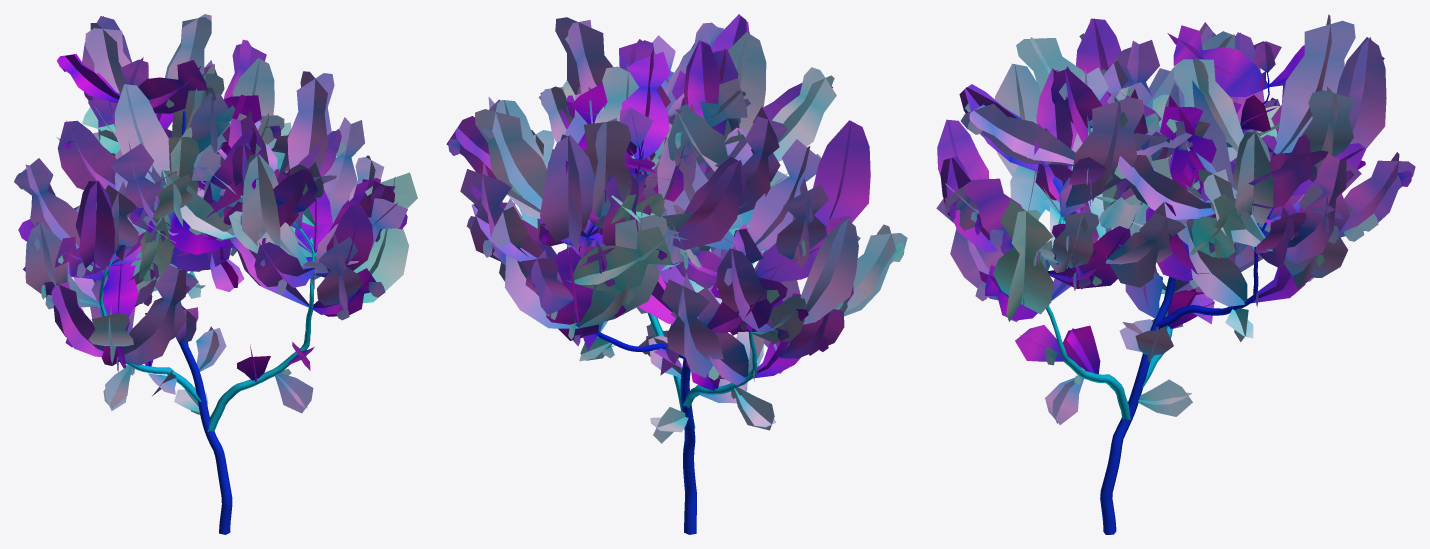
File: European_Spindle_wk1ncbxja_Mid_wk1ncbxja_VarB_LOD2.fbx
3 views of the same model, side by side, from view 1: azimuth 30°, elevation 25°; view 2: azimuth 150°, elevation 25°; view 3: azimuth 270°, elevation 25° (orthographic). The views are drawn at different scales.
Visible parts, largest first — view 1: _b5n0_VarB_LOD3; view 2: _b5n0_VarB_LOD3; view 3: _b5n0_VarB_LOD3.
Boxes of the visible parts, bbox=[...] form: _b5n0_VarB_LOD3: bbox=[14, 14, 417, 534]; _b5n0_VarB_LOD3: bbox=[446, 14, 907, 534]; _b5n0_VarB_LOD3: bbox=[936, 14, 1415, 534].
Bounding box in the file's own units: 177 × 225 × 193.
